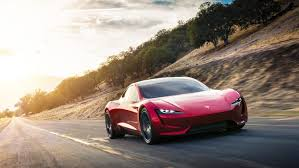car: (102, 75, 250, 144)
